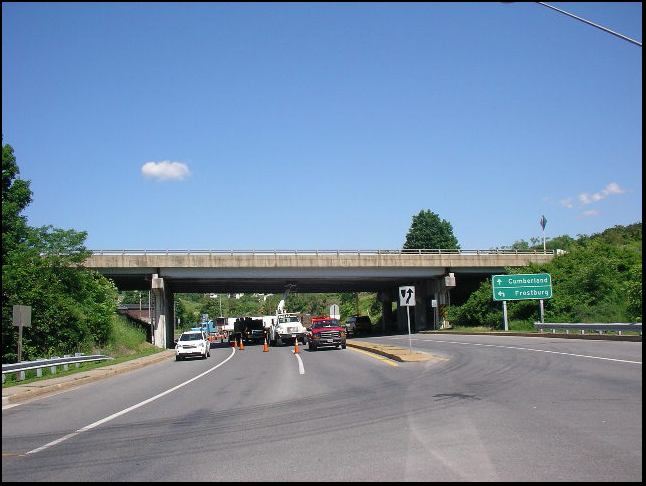bridge: (35, 248, 560, 290)
